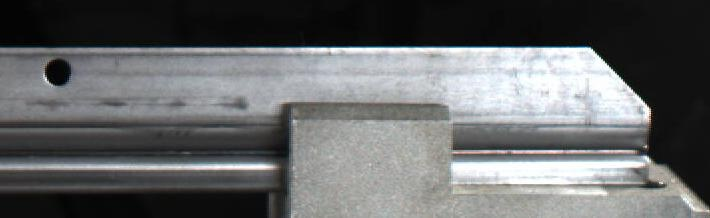cut: (485, 39, 664, 186)
holes: (43, 57, 72, 85)
